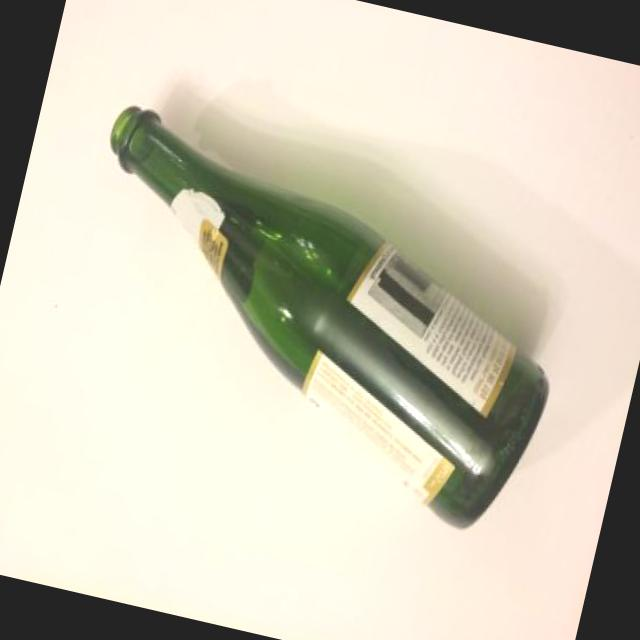chai_thuy_tinh: (109, 104, 549, 526)
